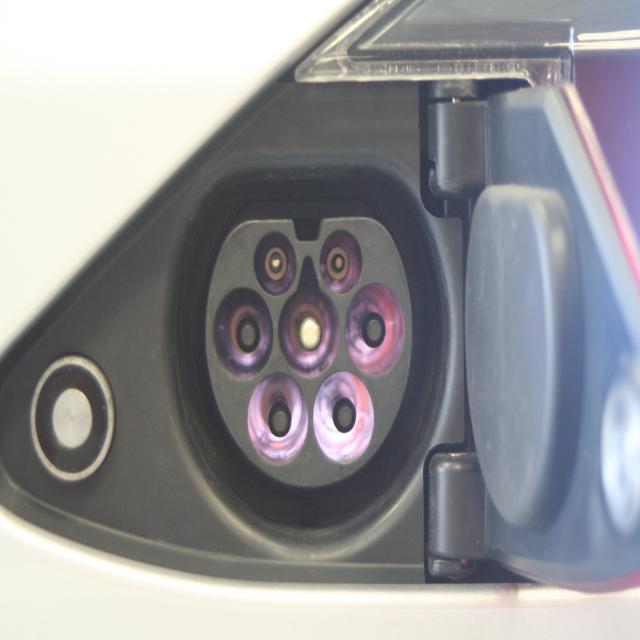Type 2: (182, 176, 449, 506)
